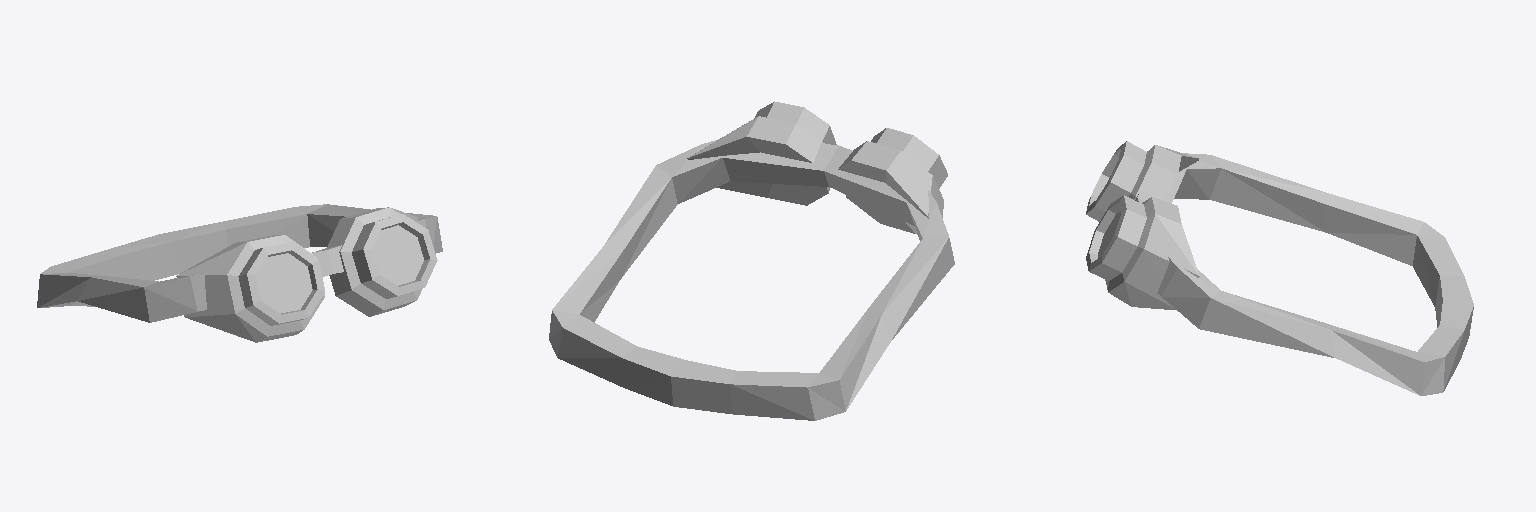
File: SM_Chr_Attach_Blacksmith_Male_Goggles_01.obj
The picture shows the model from 3 angles: view 1: azimuth 30°, elevation 25°; view 2: azimuth 150°, elevation 25°; view 3: azimuth 270°, elevation 25°; orthographic projection.
Visible parts, largest first — view 1: SM_Chr_Attach_Blacksmith_Male_Goggles_01; view 2: SM_Chr_Attach_Blacksmith_Male_Goggles_01; view 3: SM_Chr_Attach_Blacksmith_Male_Goggles_01.
Boxes of the visible parts, x1=… form: SM_Chr_Attach_Blacksmith_Male_Goggles_01: x1=37, y1=204, x2=442, y2=342; SM_Chr_Attach_Blacksmith_Male_Goggles_01: x1=549, y1=101, x2=954, y2=420; SM_Chr_Attach_Blacksmith_Male_Goggles_01: x1=1086, y1=141, x2=1473, y2=395.
Size of the model in its own units: 26.05 by 13.44 by 29.05.